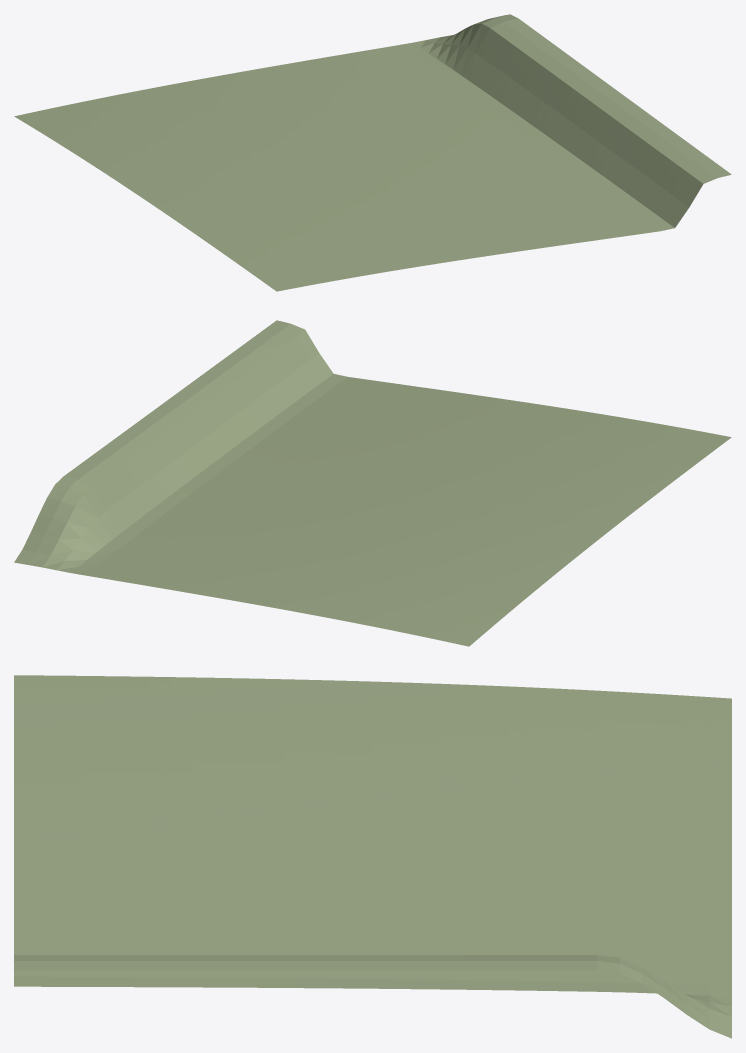
The model's file is valley-7-9.glb.
3 views of the same model, one above another, from view 1: azimuth 30°, elevation 25°; view 2: azimuth 150°, elevation 25°; view 3: azimuth 270°, elevation 25° (orthographic). The views are drawn at different scales.
Visible parts, largest first — view 1: valley-7-9; view 2: valley-7-9; view 3: valley-7-9.
Boxes of the visible parts, x1,y1,x2,y2 form: valley-7-9: (14,14,731,291); valley-7-9: (14,320,731,646); valley-7-9: (14,675,731,1038).
Bounding box in the file's own units: 256 × 26.84 × 256.
